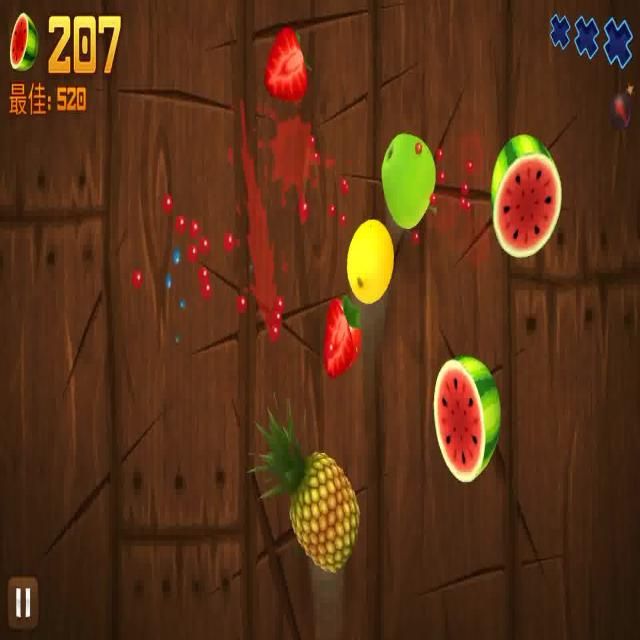fruit: (248, 394, 361, 576), (488, 133, 564, 260), (432, 346, 500, 487), (371, 123, 438, 227), (318, 292, 363, 379), (349, 213, 392, 298), (264, 28, 309, 106)
